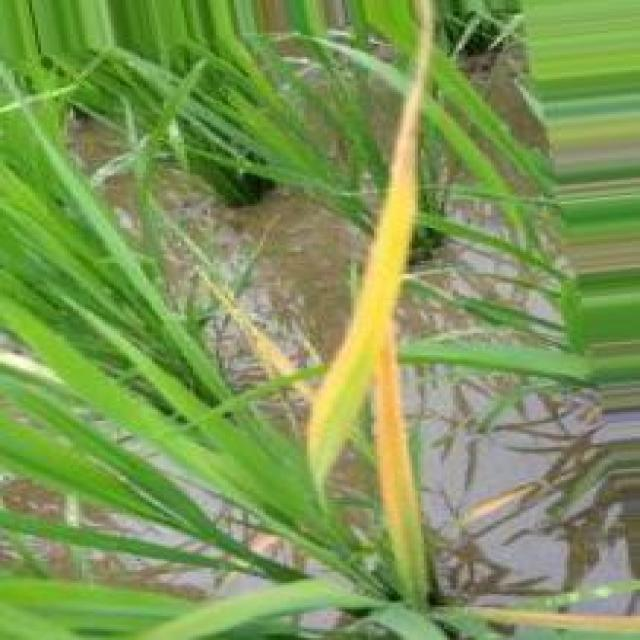Rice Tungro: (307, 0, 433, 608), (201, 270, 297, 377), (462, 486, 535, 526), (296, 381, 313, 401)
